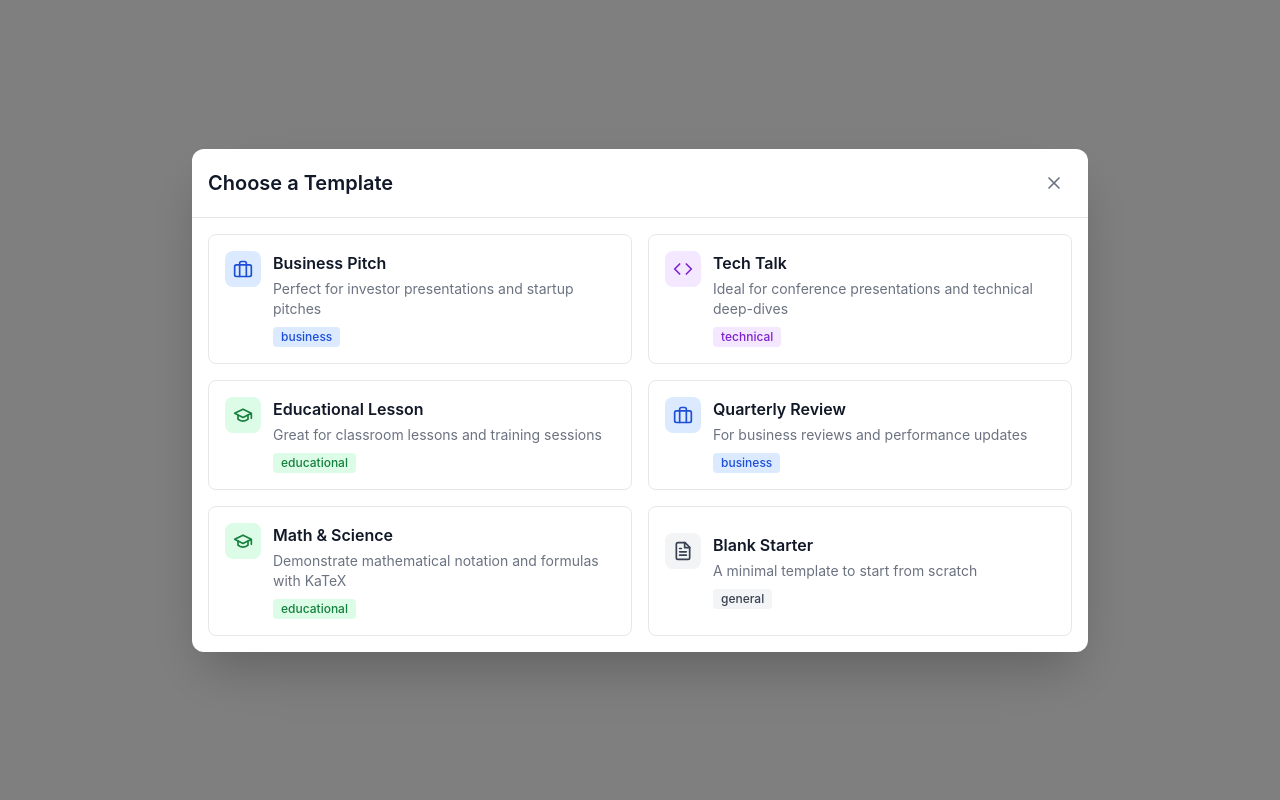
Scenario: TemplatePicker › template selection flow › returns to grid view when Back is clicked
// Enter preview mode
Click the heading "Business Pitch".
click(330, 262)  # box x1=273 y1=252 x2=386 y2=272
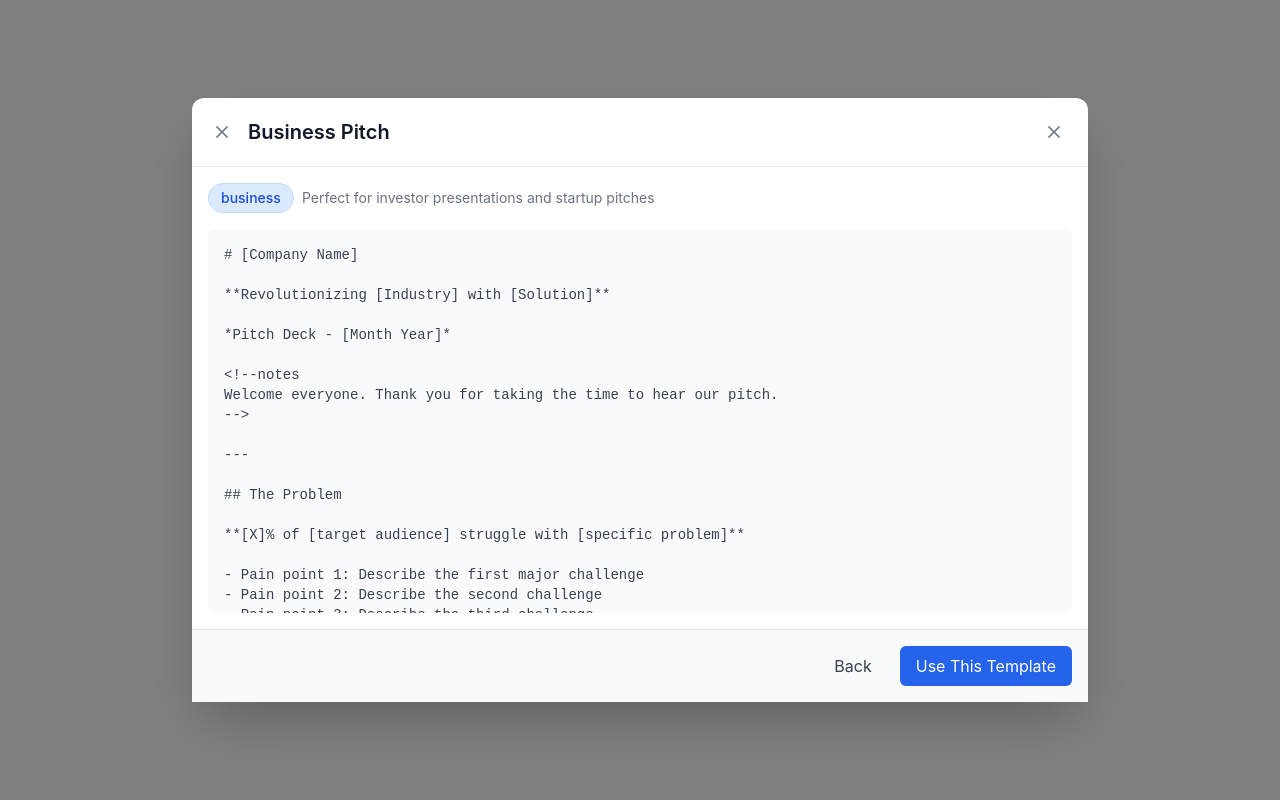
expect the button "Use This Template" is shown: met, box x1=900 y1=646 x2=1072 y2=686
// Click Back
Click the button "Back".
click(853, 666)  # box x1=818 y1=646 x2=888 y2=686
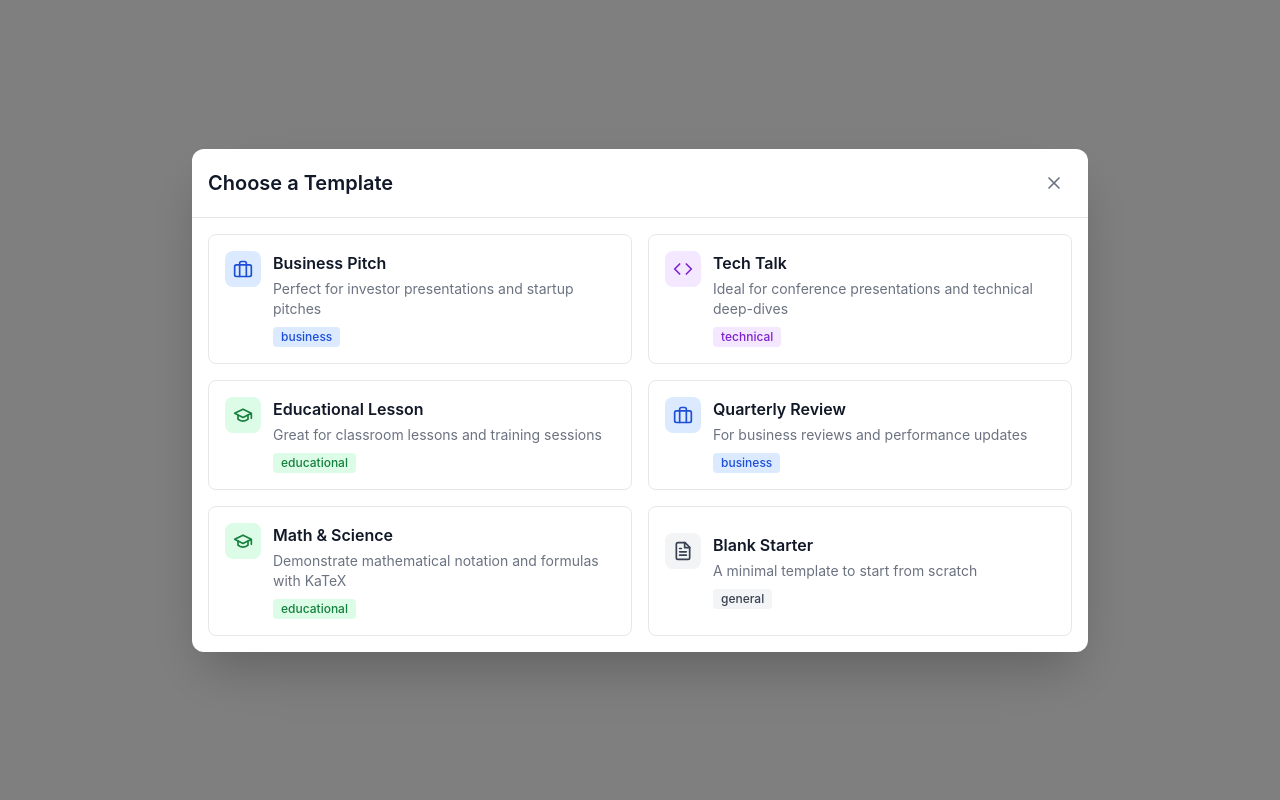
expect the heading "Choose a Template" is shown: met, box x1=208 y1=168 x2=393 y2=196
expect the button "Use This Template" is gone: met
